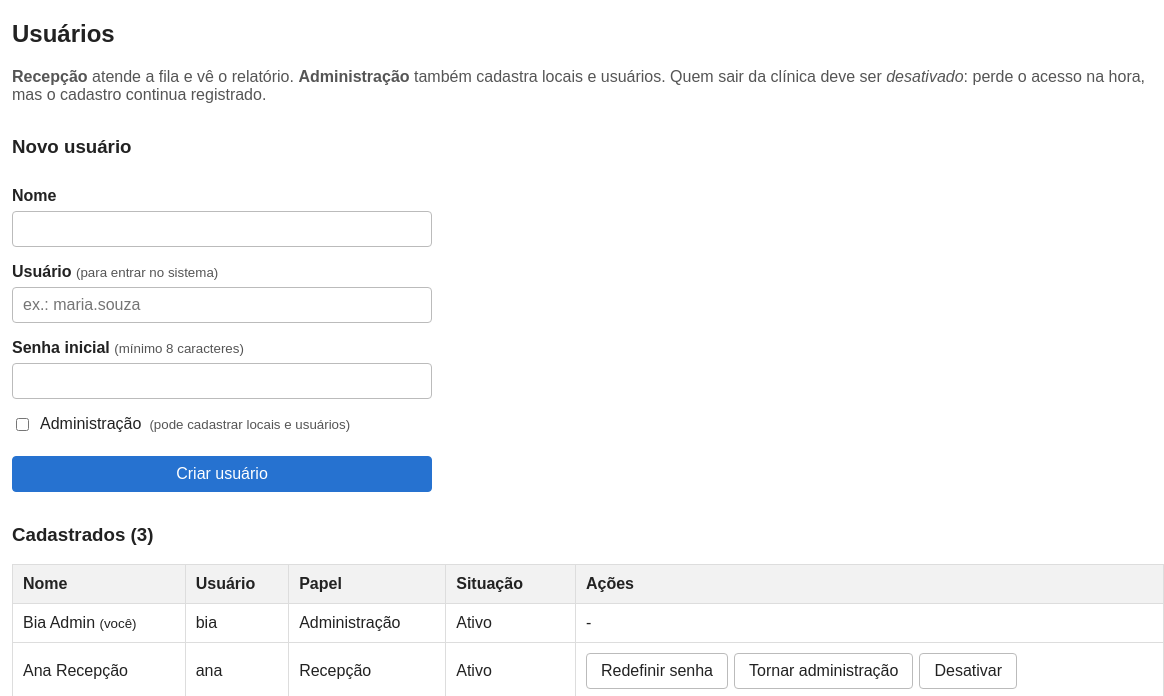
Scenario: criar com erros: cada mensagem embaixo do seu campo, e o que foi digitado fica
In the field labelled "Nome": {"x": 222, "y": 228} [12, 210, 432, 246], type "Outra Ana"
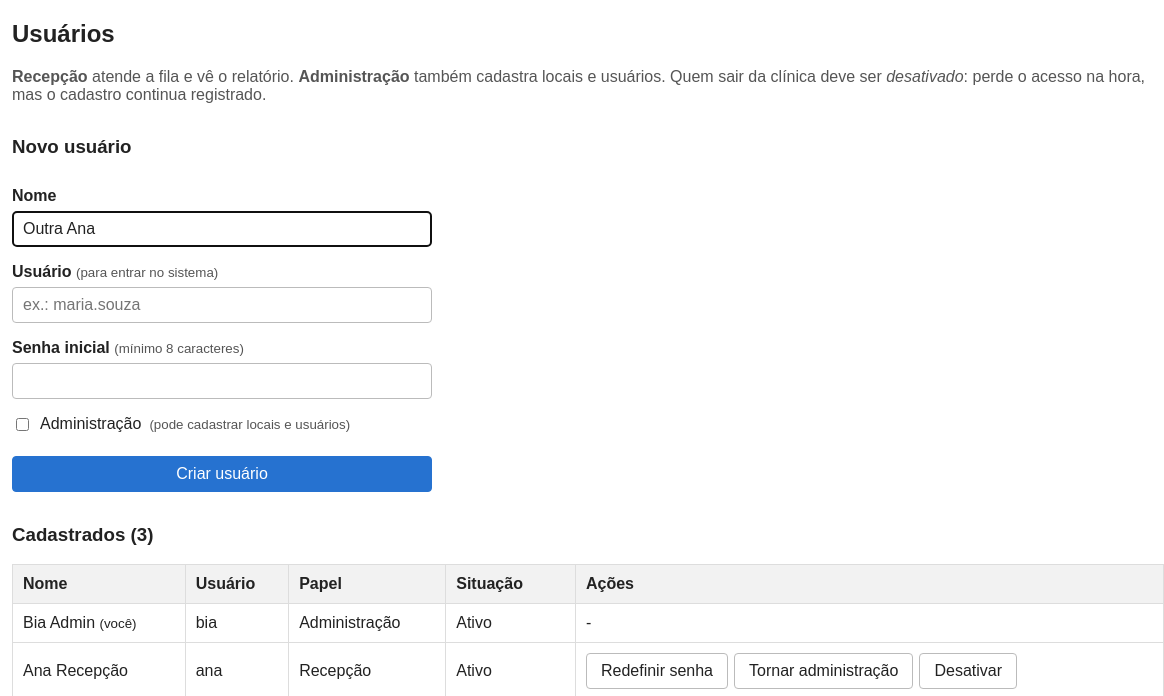
In the field labelled "Usuário (para entrar no sistema)": {"x": 222, "y": 304} [12, 286, 432, 322], type "ana"
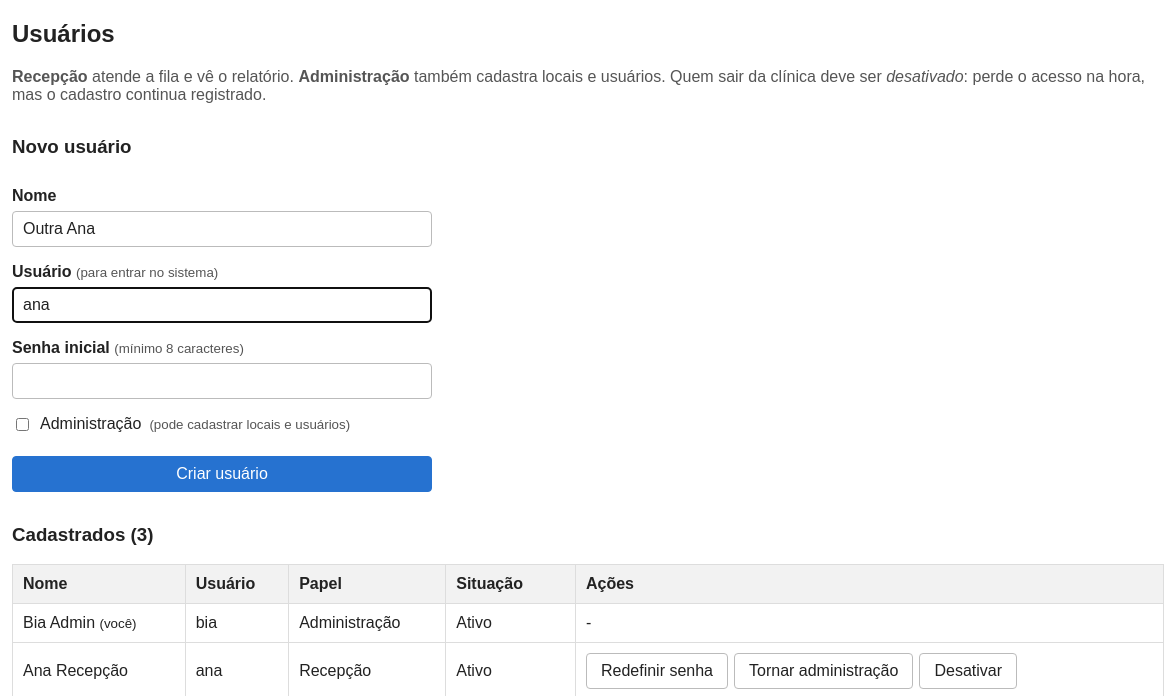
Click the button "Criar usuário": {"x": 222, "y": 474} [12, 456, 432, 492]
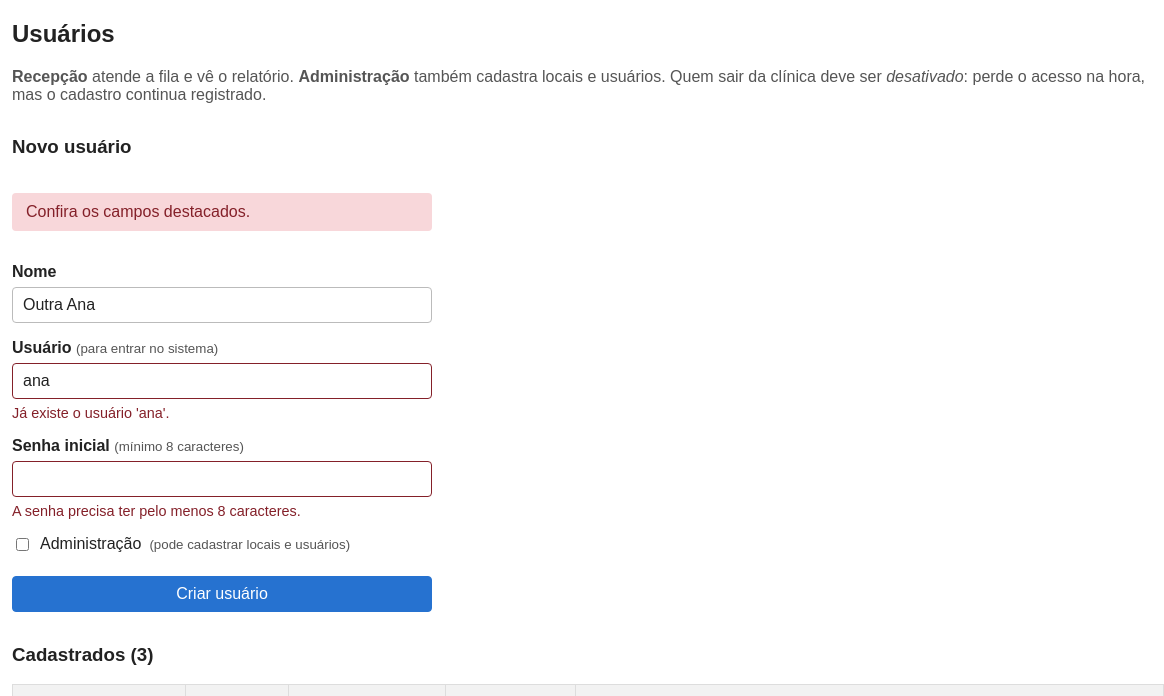
Now the text "Já existe o usuário 'ana'." is shown, box [12, 404, 170, 420]
